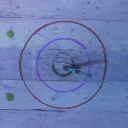Axe Tip: (68, 65, 79, 68)
